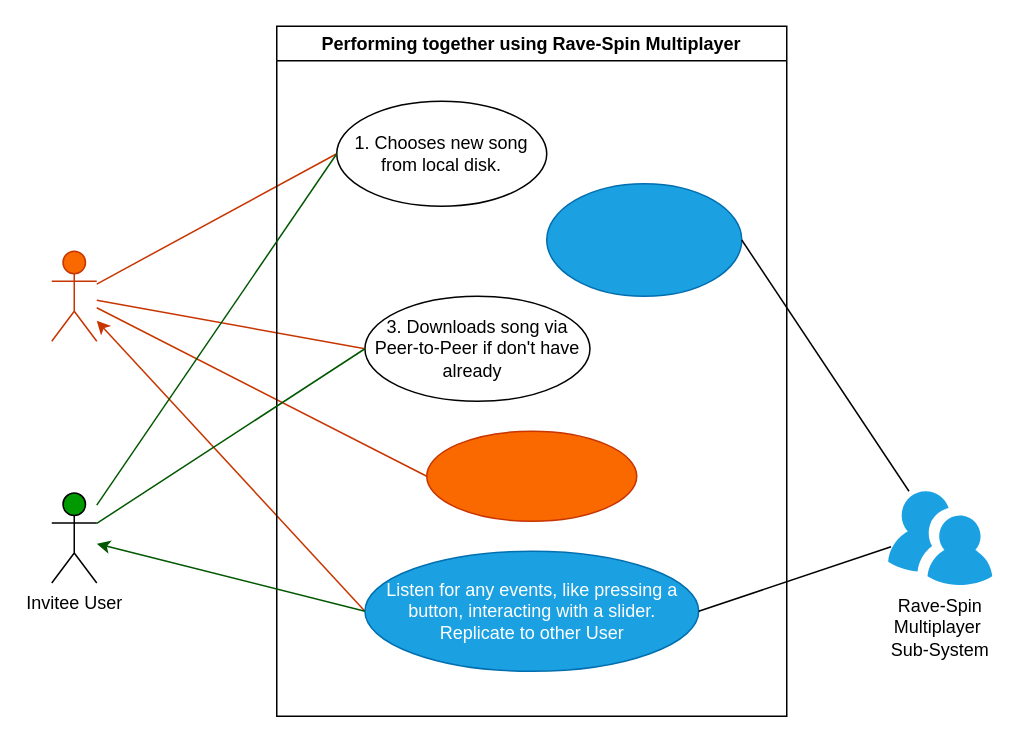
The diagram is 1019 pixels wide and 743 high, and some of its shapes have lost their labels. Each missing label, with the box of its shape:
2. Check if everyone has that same song downloaded: (545, 182, 742, 296)
4. Starts recording. Record to host device.: (425, 430, 637, 521)
Host User: (50, 250, 97, 341)
